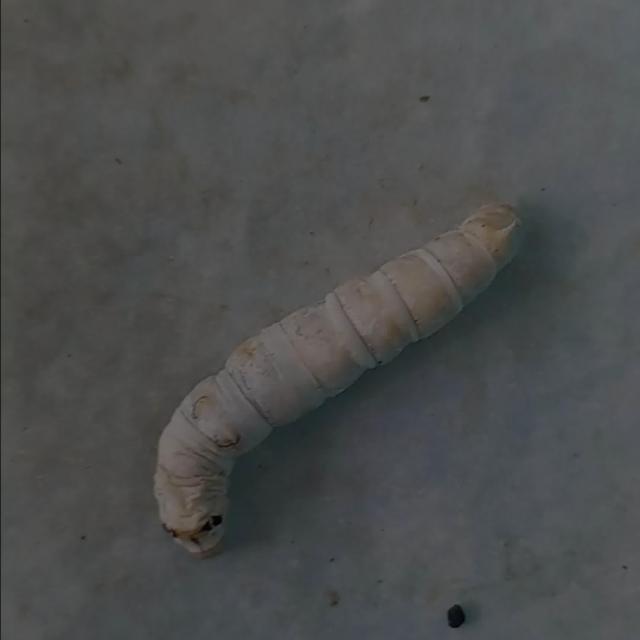Grasserie: (122, 176, 562, 568)
